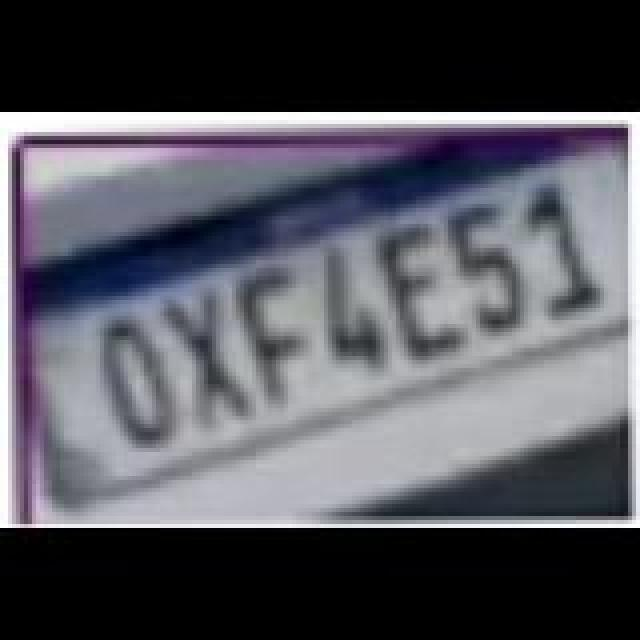1: (522, 190, 606, 322)
4: (318, 248, 394, 376)
5: (448, 206, 528, 338)
E: (380, 228, 468, 364)
F: (238, 270, 314, 410)
O: (98, 324, 182, 452)
X: (166, 294, 258, 434)
